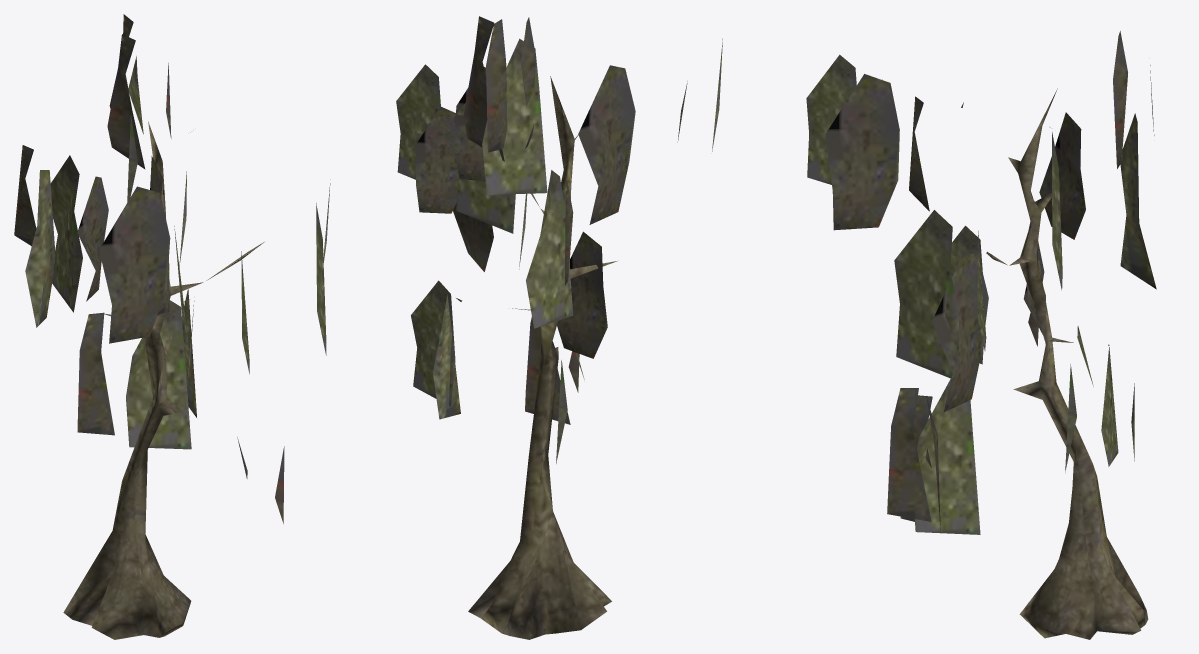
Rendered from swamp-tree-a-map.glb.
3 views of the same model, side by side, from view 1: azimuth 30°, elevation 25°; view 2: azimuth 150°, elevation 25°; view 3: azimuth 270°, elevation 25° (orthographic). The views are drawn at different scales.
Parts seen in each view (by area): view 1: swamp_tree_a_LOD0; view 2: swamp_tree_a_LOD0; view 3: swamp_tree_a_LOD0.
Part boxes in pixels (<box>): swamp_tree_a_LOD0: <box>14,14,330,639</box>; swamp_tree_a_LOD0: <box>396,16,722,639</box>; swamp_tree_a_LOD0: <box>806,31,1156,639</box>.
Bounding box in the file's own units: 7.99 × 14.37 × 8.02.
Materials: 1 (1 with a texture image).
